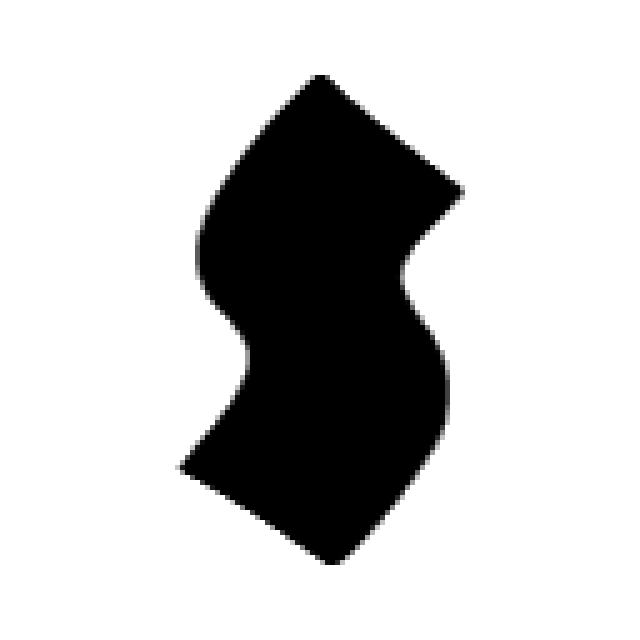S: (170, 65, 465, 565)
